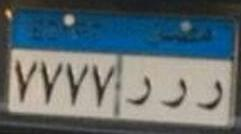7: (39, 60, 65, 108), (14, 58, 37, 105), (67, 58, 88, 109), (93, 64, 114, 109)
raa: (195, 75, 225, 115), (161, 72, 190, 113), (125, 73, 154, 114)
